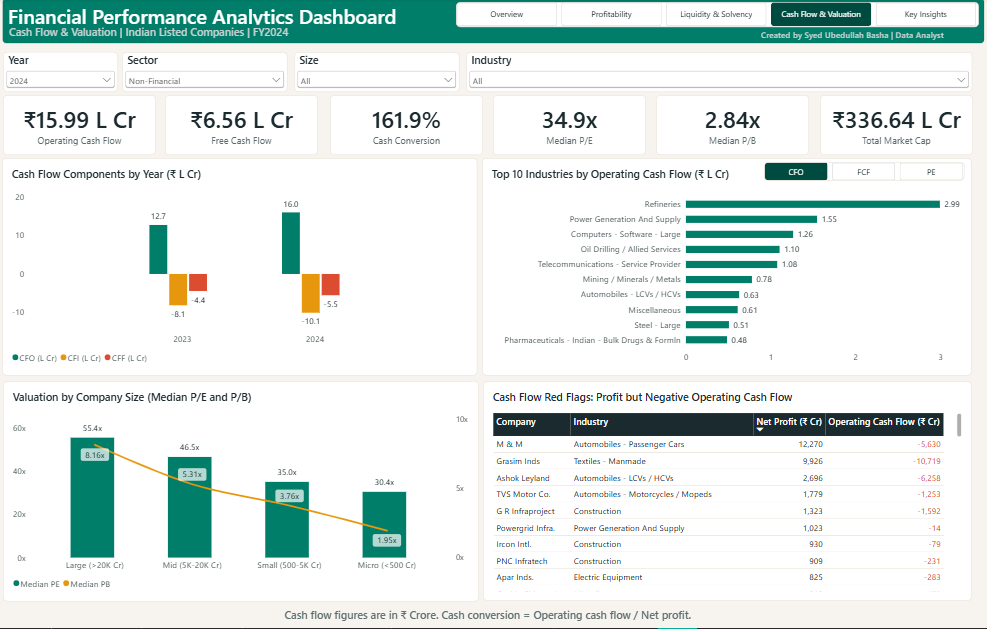

What the dashboard file says about the page in this screenshot:
{"tool":"powerbi","page":{"name":"Cash Flow & Valuation","canvas":[1750,1100],"ordinal":3},"visuals":[{"type":"slicer","fields":{"Values":["dim_company.Sector Type"]},"box":[233.9,93.7,289.2,70],"z":0},{"type":"slicer","title":"Year","fields":{"Values":["dim_year.fiscal_year"]},"box":[25.8,93.7,200.8,70],"z":1000},{"type":"shape","box":[24.4,0,1716.3,80.3],"z":2000},{"type":"textbox","title":"Financial Performance Analytics Dashboard","box":[34.9,8.7,707,38.4],"z":3000},{"type":"slicer","title":"Year","fields":{"Values":["dim_company.size_bucket"]},"box":[535,93.7,289.2,70],"z":4000},{"type":"slicer","title":"Year","fields":{"Values":["dim_company.industry"]},"box":[834.5,93.9,884.2,70],"z":5000},{"type":"textbox","title":"Cash Flow & Valuation | Indian Listed Companies | FY2024","box":[36.7,47.1,532,24.4],"z":6000},{"type":"card","fields":{"Values":["_Measures.CFO (L Cr)"]},"box":[25.8,169.5,267.1,105],"z":7000},{"type":"card","fields":{"Values":["_Measures.FCF (L Cr)"]},"box":[309.5,169.5,267.1,105],"z":8000},{"type":"card","fields":{"Values":["_Measures.Cash Conversion %"]},"box":[596.8,169.5,267.1,105],"z":9000},{"type":"card","fields":{"Values":["_Measures.Median PE"]},"box":[882.4,169.5,267.1,105],"z":10000},{"type":"card","fields":{"Values":["_Measures.Median PB"]},"box":[1166.1,169.5,267.1,105],"z":11000},{"type":"card","fields":{"Values":["_Measures.Market Cap (L Cr)"]},"box":[1452,169.5,267.1,105],"z":12000},{"type":"textbox","title":"Cash flow figures are in ₹ Crore. Cash conversion = Operating cash flow / Net profit.","box":[25.8,1064.7,1692.9,29.5],"z":15000},{"type":"clusteredColumnChart","title":"Cash Flow Components by Year (₹ L Cr)","fields":{"Category":["dim_year.fiscal_year"],"Y":["_Measures.CFO (L Cr)","_Measures.CFI (L Cr)","_Measures.CFF (L Cr)"]},"box":[25,280,830,380],"z":16000},{"type":"clusteredBarChart","title":"Top 10 Industries by Operating Cash Flow (₹ L Cr)","fields":{"Category":["dim_company.industry"],"Y":["_Measures.CFO (L Cr)"]},"box":[863.3,279.9,855.4,379.8],"z":17000},{"type":"bookmarkNavigator","box":[1354.6,285.8,350.4,33.3],"z":20000},{"type":"lineClusteredColumnComboChart","title":"Valuation by Company Size (Median P/E and P/B)","fields":{"Category":["dim_company.size_bucket"],"Y":["_Measures.Median PE"],"Y2":["_Measures.Median PB"]},"box":[25.8,668.7,830.8,385],"z":21000},{"type":"tableEx","title":"Cash Flow Red Flags: Profit but Negative Operating Cash Flow","fields":{"Values":["dim_company.company_name","dim_company.industry","_Measures.Total Net Profit","_Measures.Total CFO"]},"box":[865,669,853,384],"z":22000},{"type":"pageNavigator","box":[817.1,7,913.2,43.7],"z":23000},{"type":"textbox","title":"Created by Syed Ubedullah Basha | Data Analyst","box":[1350.3,53.4,350,24],"z":24000}]}

Visuals, with their boxes in screenshot pixels (x1, y1, x2, y2), scaled from the page's 1750x1100 canvas onto the 994x632 screenshot:
slicer - dim_company.Sector Type: 133/54/297/94
"Year" slicer: 15/54/129/94
shape: 14/0/989/46
"Financial Performance Analytics Dashboard" textbox: 20/5/421/27
"Year" slicer: 304/54/468/94
"Year" slicer: 474/54/976/94
"Cash Flow & Valuation | Indian Listed Companies | FY2024" textbox: 21/27/323/41
card - _Measures.CFO (L Cr): 15/97/166/158
card - _Measures.FCF (L Cr): 176/97/328/158
card - _Measures.Cash Conversion %: 339/97/491/158
card - _Measures.Median PE: 501/97/653/158
card - _Measures.Median PB: 662/97/814/158
card - _Measures.Market Cap (L Cr): 825/97/976/158
"Cash flow figures are in ₹ Crore. Cash conversion = Operating cash flow / Net profit." textbox: 15/612/976/629
"Cash Flow Components by Year (₹ L Cr)" clusteredColumnChart: 14/161/486/379
"Top 10 Industries by Operating Cash Flow (₹ L Cr)" clusteredBarChart: 490/161/976/379
bookmarkNavigator: 769/164/968/183
"Valuation by Company Size (Median P/E and P/B)" lineClusteredColumnComboChart: 15/384/487/605
"Cash Flow Red Flags: Profit but Negative Operating Cash Flow" tableEx: 491/384/976/605
pageNavigator: 464/4/983/29
"Created by Syed Ubedullah Basha | Data Analyst" textbox: 767/31/966/44
